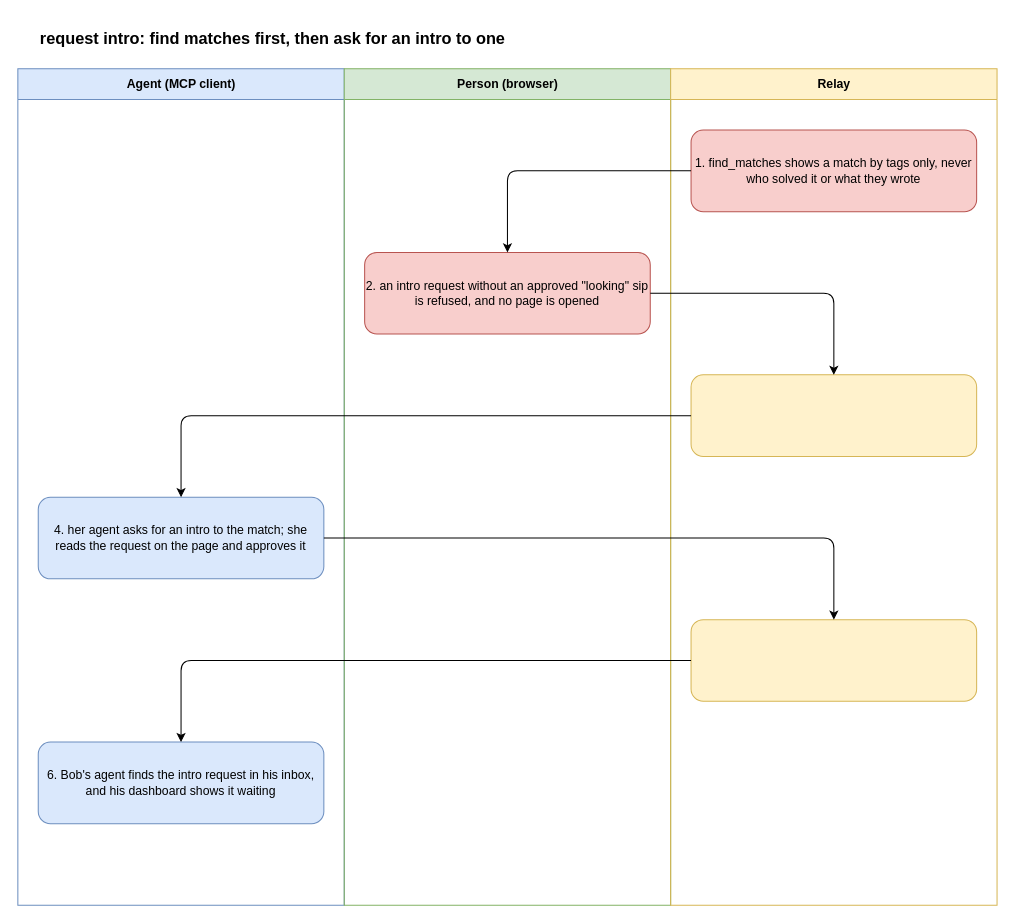
The diagram is 1015 pixels wide and 923 high, and some of its shapes have lost their labels. Here are the shapes that lost their labels. From the top down, the centre of each, then its label:
point 833,415: 3. Alice shares what she is stuck on without asking for an intro
point 833,660: 5. asking again returns the same intro instead of a second request
